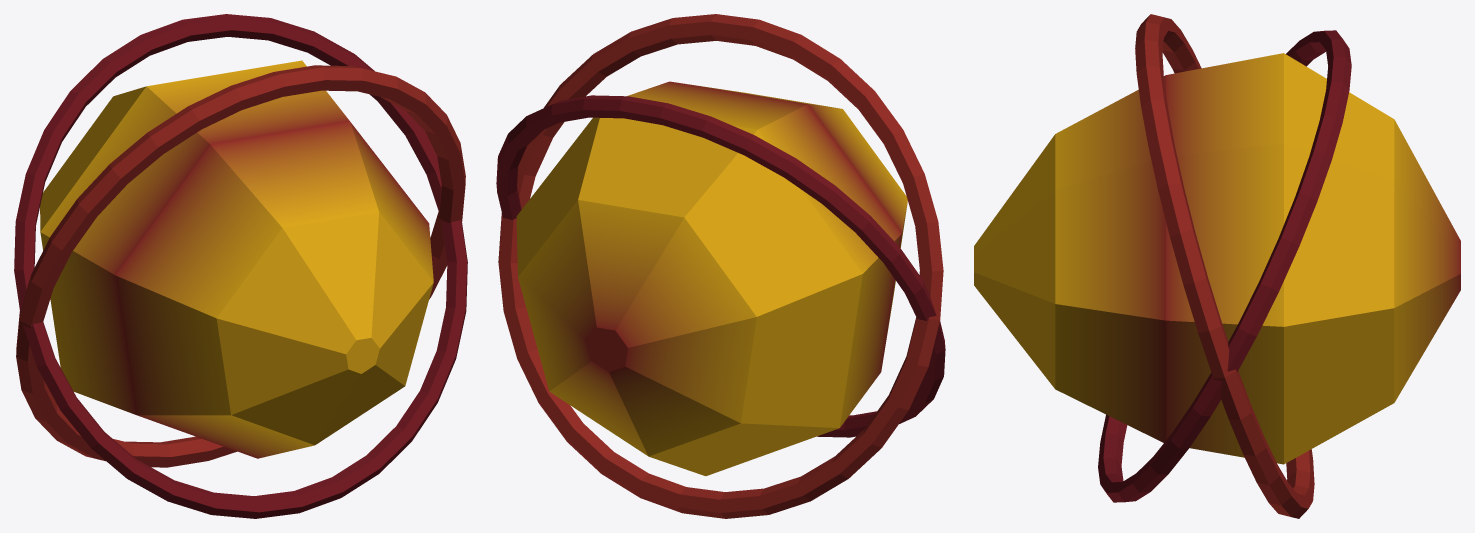
Rendered from Orb.fbx.
3 renders of one model, left to right at view 1: azimuth 30°, elevation 25°; view 2: azimuth 150°, elevation 25°; view 3: azimuth 270°, elevation 25°, orthographic. The views are drawn at different scales.
Parts seen in each view (by area): view 1: Orb; view 2: Orb; view 3: Orb.
Part boxes in pixels (x1,y1,x2,y2): Orb: (14,14,467,518); Orb: (496,14,945,518); Orb: (974,14,1460,518).
Bounding box in the file's own units: 0.714 × 0.68 × 0.66.
